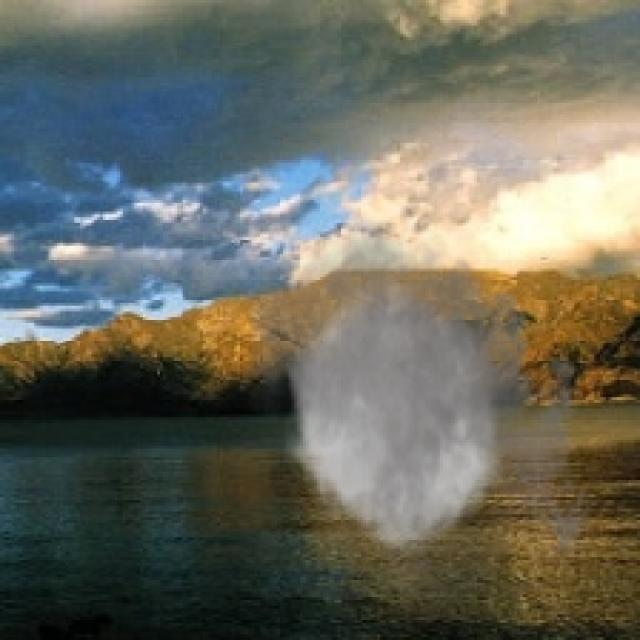smoke: (234, 203, 600, 626)
